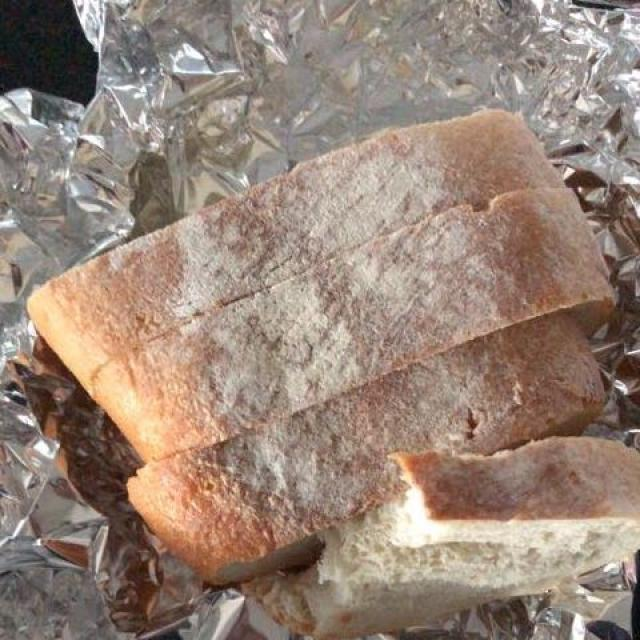bread: (41, 109, 625, 582)
